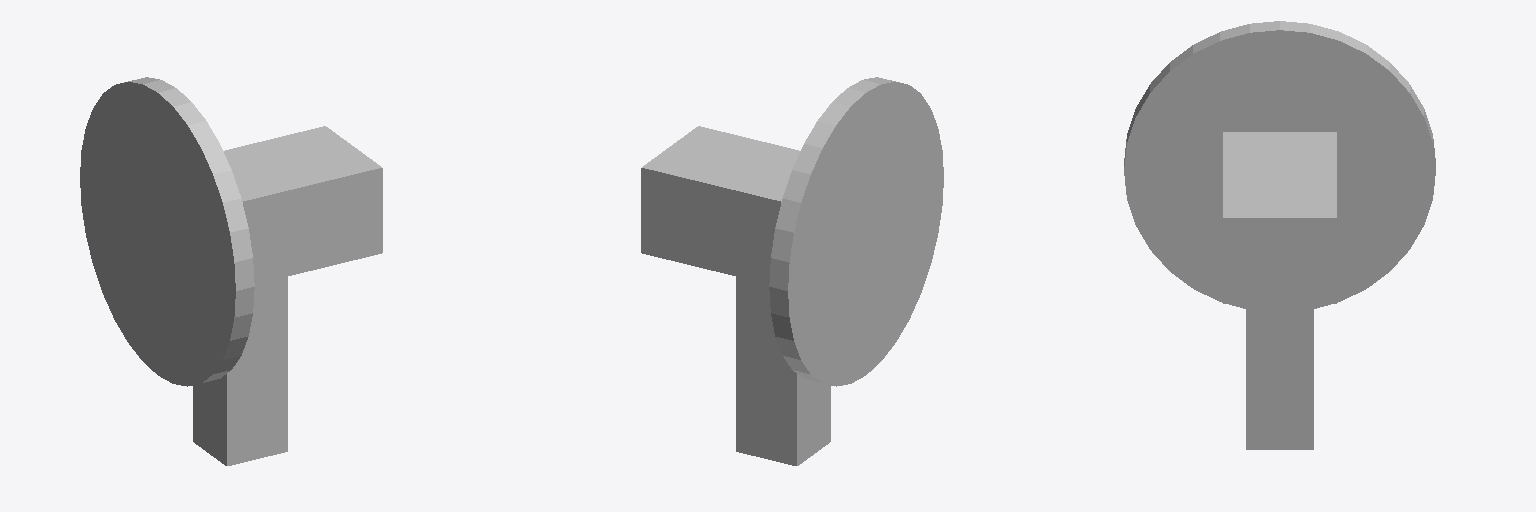
Rendered from fan_motor.obj.
3 views of the same model, side by side, from view 1: azimuth 30°, elevation 25°; view 2: azimuth 150°, elevation 25°; view 3: azimuth 270°, elevation 25° (orthographic).
Parts seen in each view (by area): view 1: Cylinder, Cube, Cube.002; view 2: Cylinder, Cube, Cube.002; view 3: Cylinder, Cube, Cube.002.
Part boxes in pixels (x1,y1,x2,y2): Cylinder: (80, 77, 254, 386); Cube: (224, 126, 382, 283); Cube.002: (193, 277, 287, 465); Cylinder: (769, 77, 943, 386); Cube: (641, 126, 799, 283); Cube.002: (736, 277, 830, 465); Cylinder: (1124, 21, 1435, 308); Cube: (1223, 132, 1336, 303); Cube.002: (1246, 304, 1313, 449).
Bounding box in the file's own units: 1.45 × 2.65 × 2.